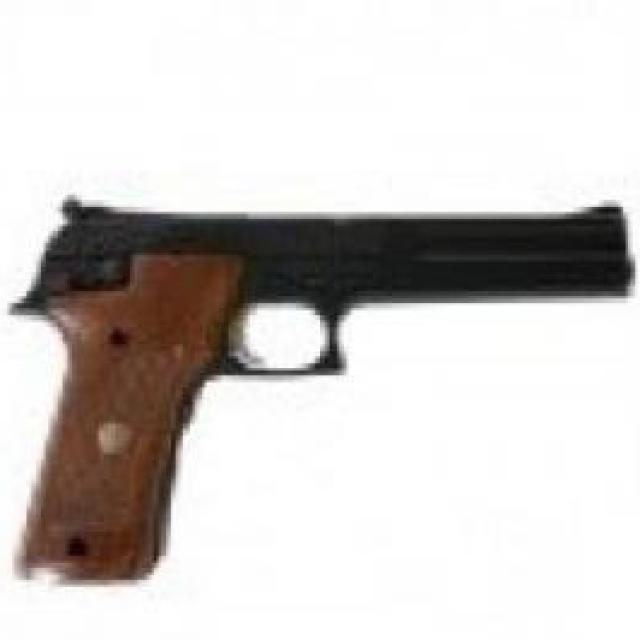pistol: (8, 202, 640, 599)
